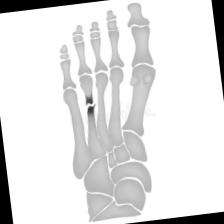stress-fracture: (57, 0, 168, 223)
